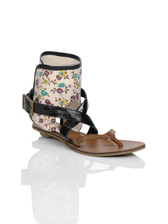shoes: (17, 50, 148, 158)
